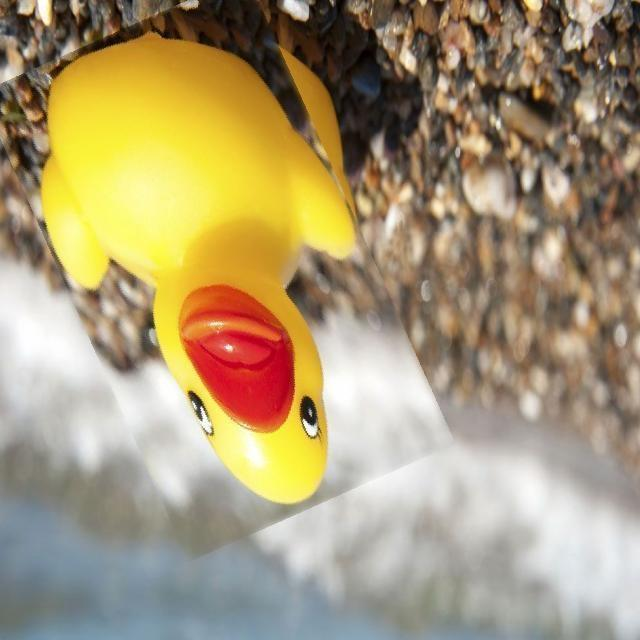rubber-duck: (40, 0, 353, 502)
